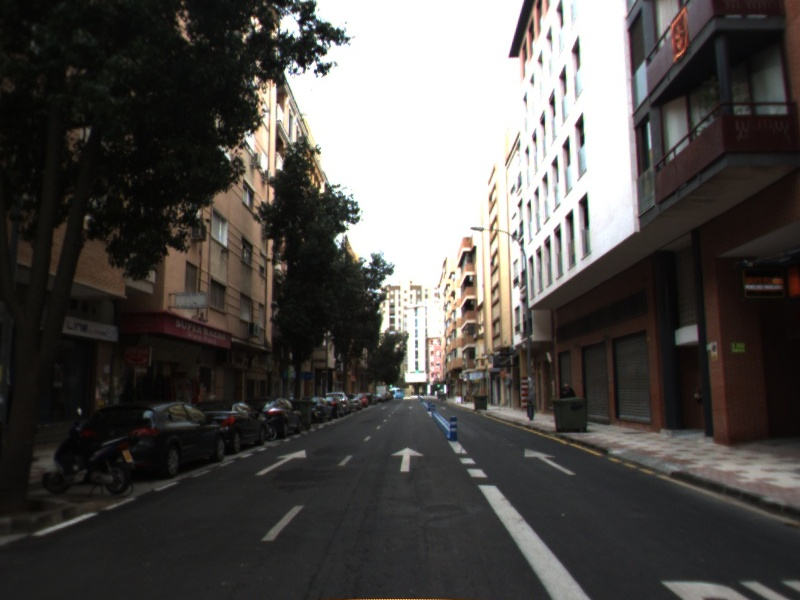STRAIGHT: (523, 446, 578, 477), (253, 448, 308, 478), (389, 445, 425, 474)
